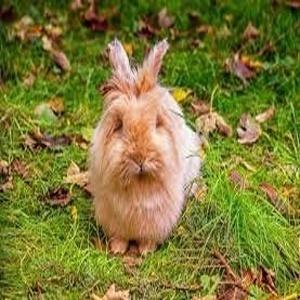rabbit: (84, 40, 205, 255)
